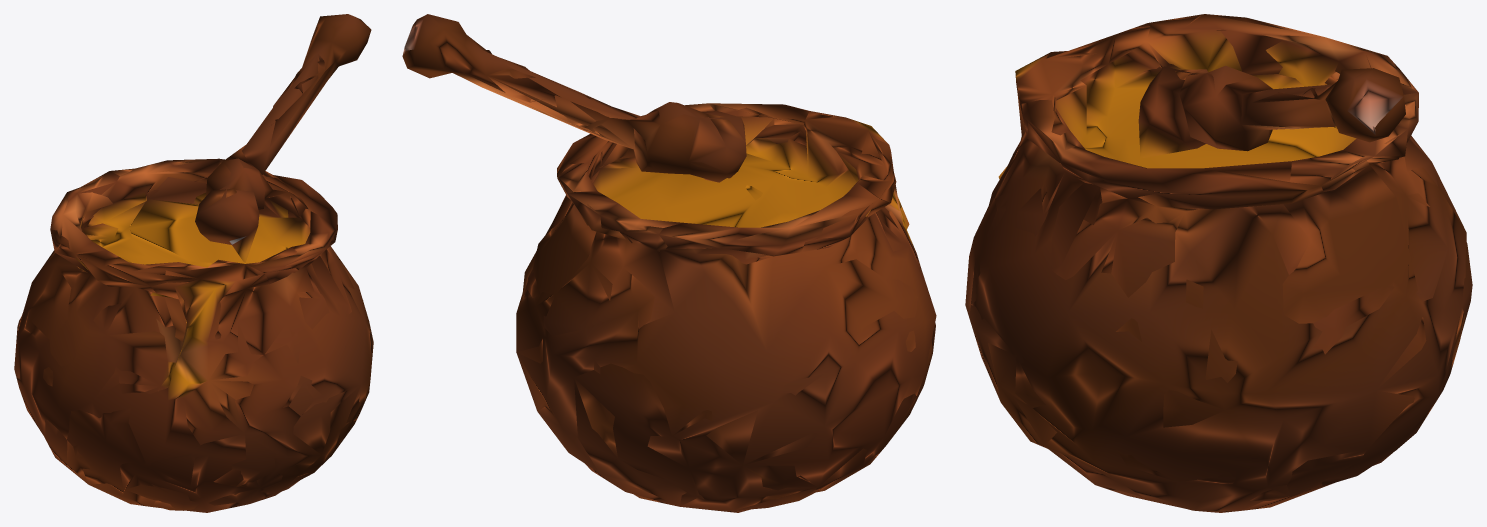
The model's file is gen3d-honey-pot-lod0.glb.
3 views of the same model, side by side, from view 1: azimuth 30°, elevation 25°; view 2: azimuth 150°, elevation 25°; view 3: azimuth 270°, elevation 25° (orthographic). The views are drawn at different scales.
Visible parts, largest first — view 1: part_0; view 2: part_0; view 3: part_0.
Boxes of the visible parts, box(x1,y1,x2,y2) form: part_0: box(14, 14, 373, 512); part_0: box(402, 14, 936, 512); part_0: box(965, 14, 1472, 512).
Bounding box in the file's own units: 1.06 × 0.9956 × 0.8709.
